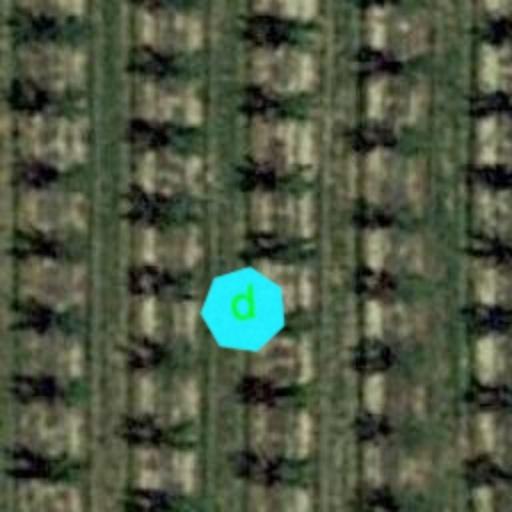heptagon: (196, 262, 292, 358)
